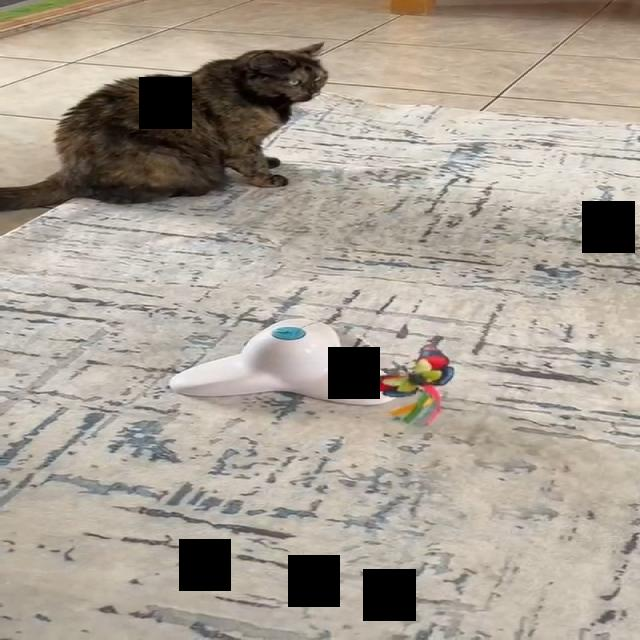authorized: (0, 40, 329, 211)
